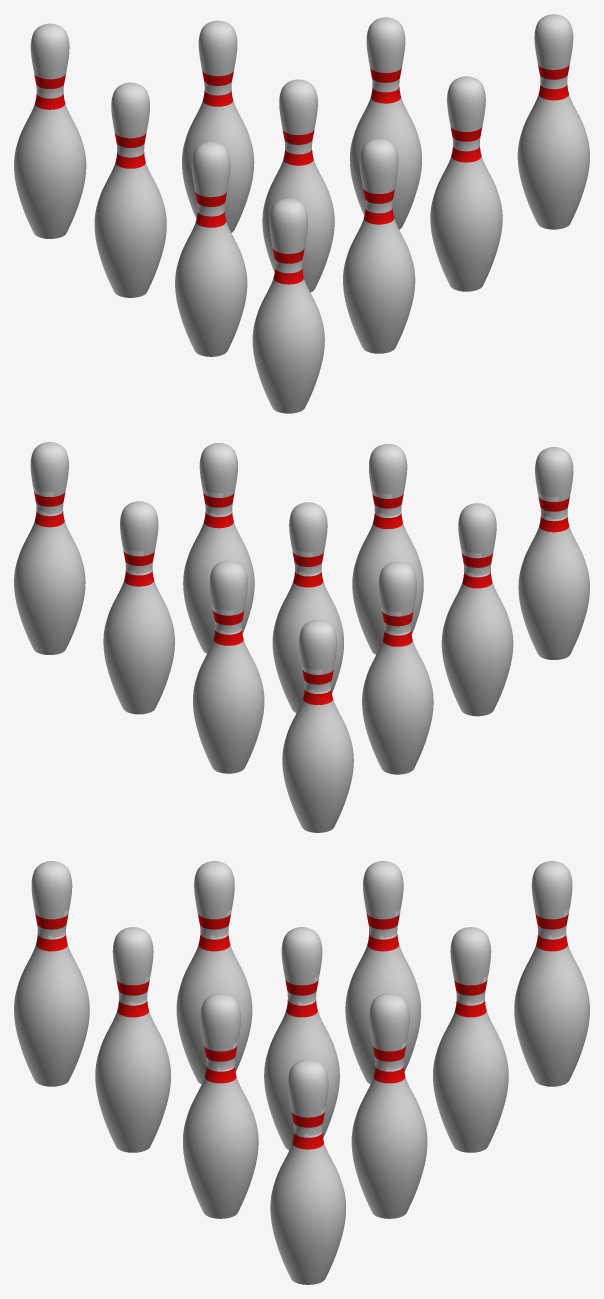
File: Pins.dae
The picture shows the model from 3 angles, top to bottom: view 1: azimuth 30°, elevation 25°; view 2: azimuth 150°, elevation 25°; view 3: azimuth 270°, elevation 25°; orthographic projection. The views are drawn at different scales.
Parts seen in each view (by area): view 1: Bowling_Pin (×20); view 2: Bowling_Pin (×20); view 3: Bowling_Pin (×20).
Part boxes in pixels (x1,y1,x2,y2): Bowling_Pin (×20): (14,14,589,413); Bowling_Pin (×20): (14,442,589,832); Bowling_Pin (×20): (14,861,589,1284).
Bounding box in the file's own units: 34.3 × 36.27 × 14.98.
